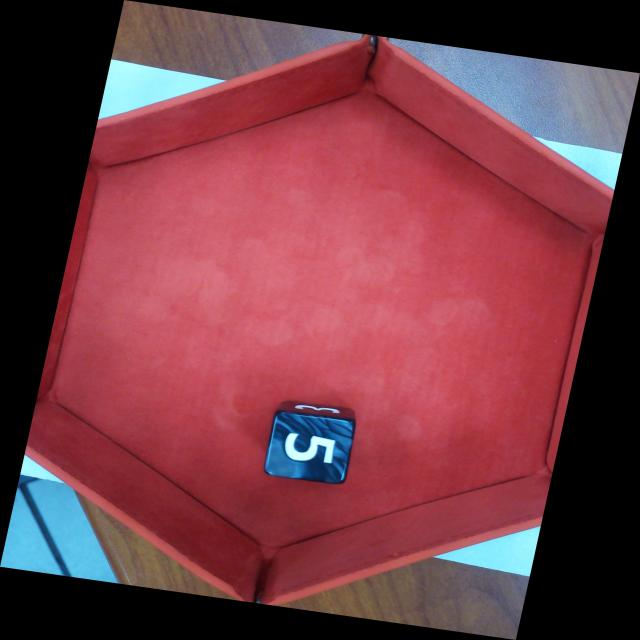dice: (259, 410, 359, 487)
